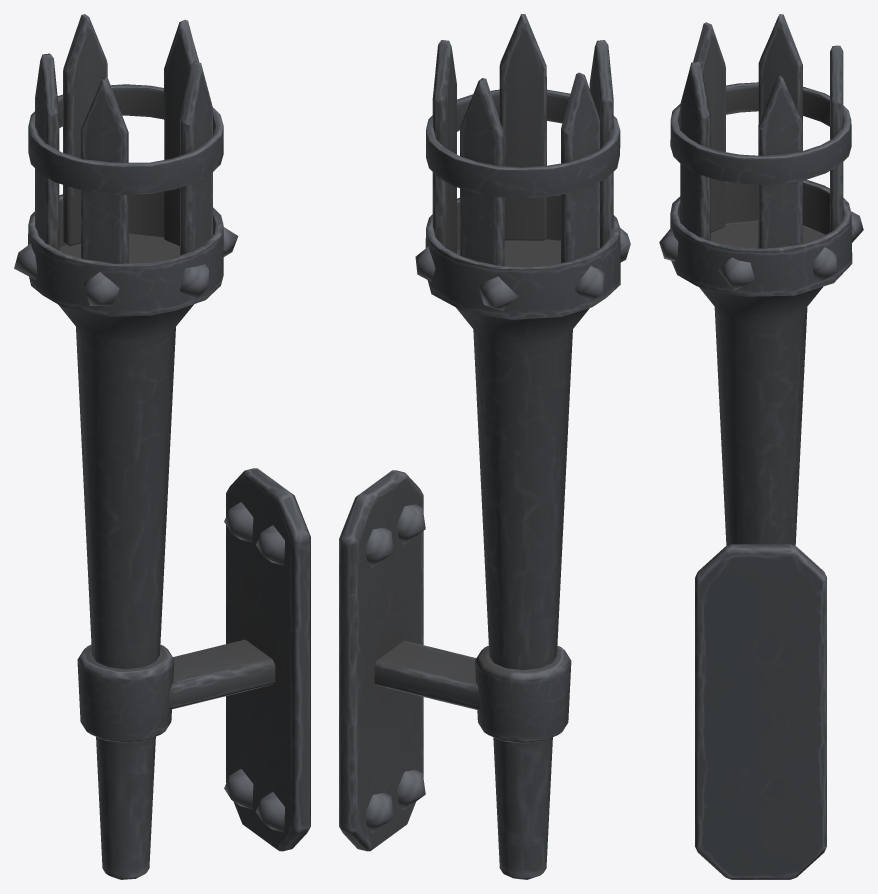
Rendered from SM_torch_01.fbx.
The picture shows the model from 3 angles, left to right: view 1: azimuth 30°, elevation 25°; view 2: azimuth 150°, elevation 25°; view 3: azimuth 270°, elevation 25°; orthographic projection. The views are drawn at different scales.
Parts seen in each view (by area): view 1: SM_torch_01_LOD0; view 2: SM_torch_01_LOD0; view 3: SM_torch_01_LOD0.
Part boxes in pixels (x1=…): SM_torch_01_LOD0: x1=14, y1=14, x2=310, y2=879; SM_torch_01_LOD0: x1=339, y1=14, x2=630, y2=879; SM_torch_01_LOD0: x1=659, y1=14, x2=863, y2=879.
Size of the model in its own units: 17.12 by 13.22 by 54.69.
